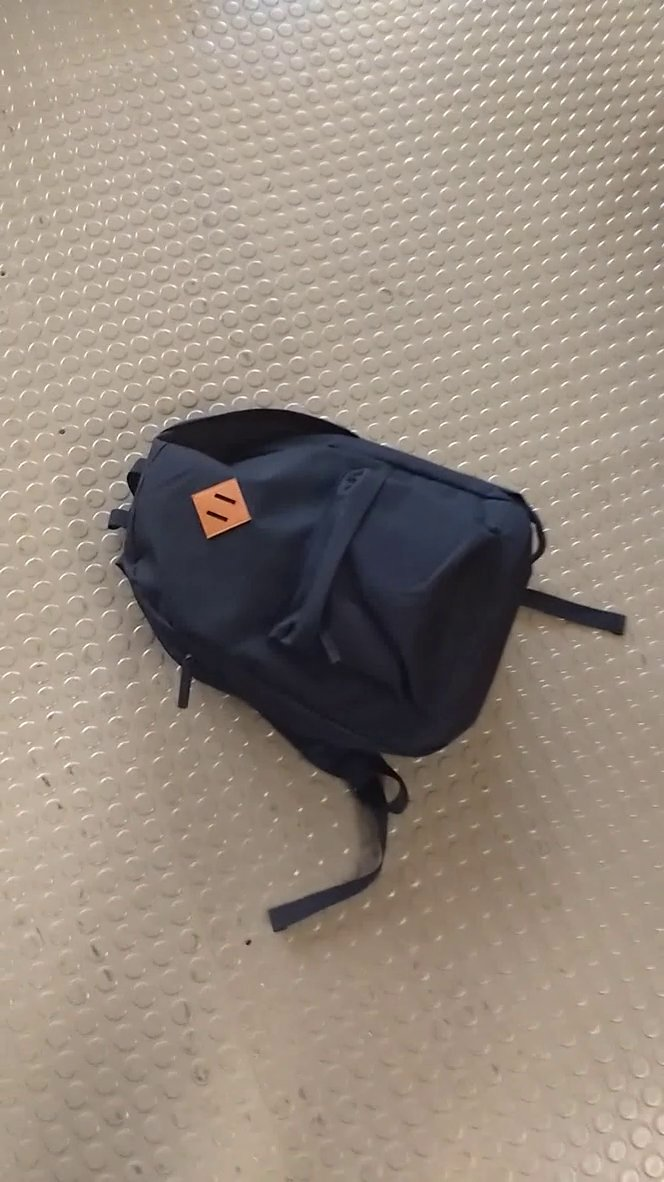bag: (93, 396, 635, 951)
